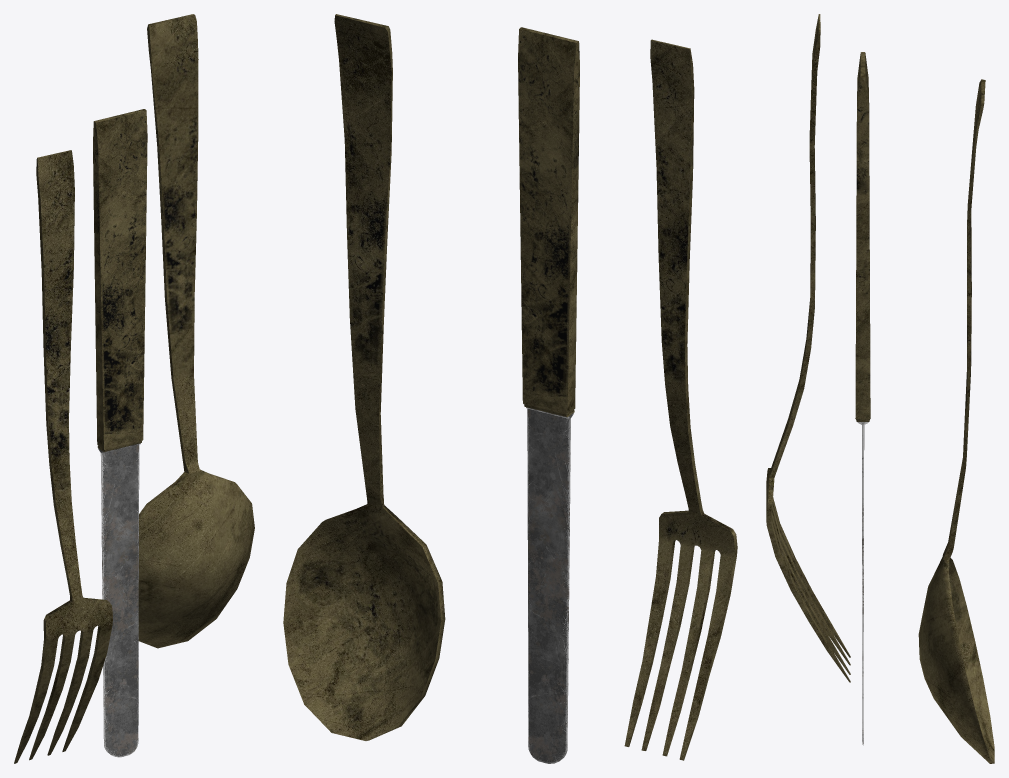
The model's file is obj_cutlery_6cf1ab.glb.
3 views of the same model, side by side, from view 1: azimuth 30°, elevation 25°; view 2: azimuth 150°, elevation 25°; view 3: azimuth 270°, elevation 25° (orthographic). The views are drawn at different scales.
Parts seen in each view (by area): view 1: obj_cutlery_6cf1ab; view 2: obj_cutlery_6cf1ab; view 3: obj_cutlery_6cf1ab.
Part boxes in pixels (x1,y1,x2,y2): obj_cutlery_6cf1ab: [14, 14, 254, 763]; obj_cutlery_6cf1ab: [283, 14, 737, 763]; obj_cutlery_6cf1ab: [766, 14, 994, 763].
Bounding box in the file's own units: 0.151 × 0.32 × 0.0939.
3 materials, 3 textured.
